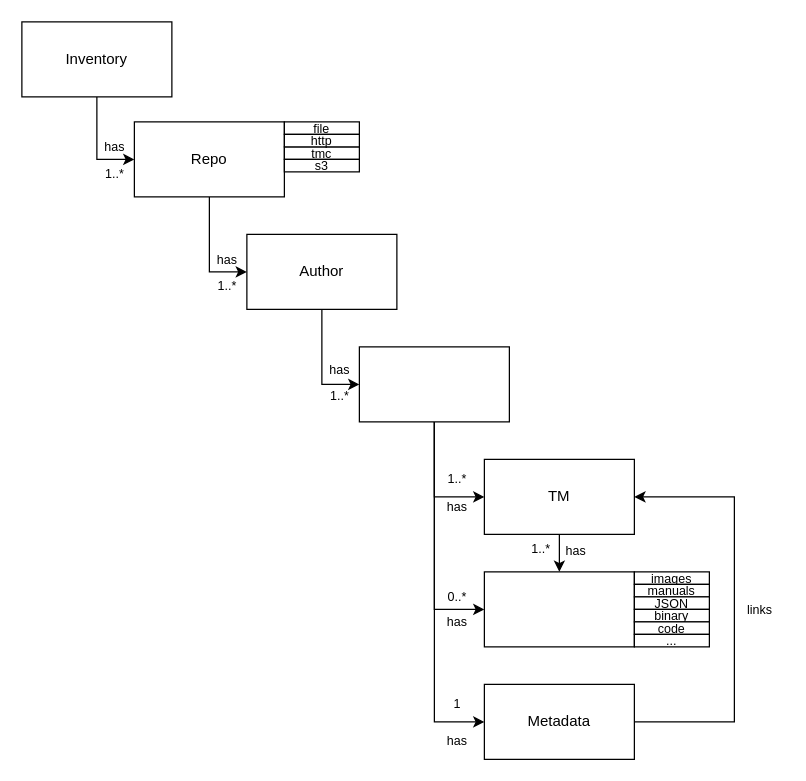
Image size: 806x781. Some labels were removed from this diagram. The centre of each missing label's shape, as x and y in pixels:
Attachment: the point at 558,609
Device: the point at 433,384
